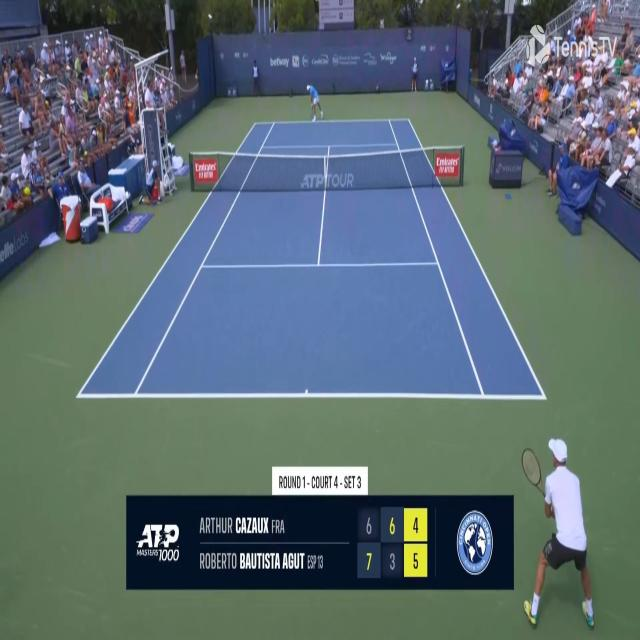tennis-player: (520, 435, 600, 636), (304, 80, 323, 122)
